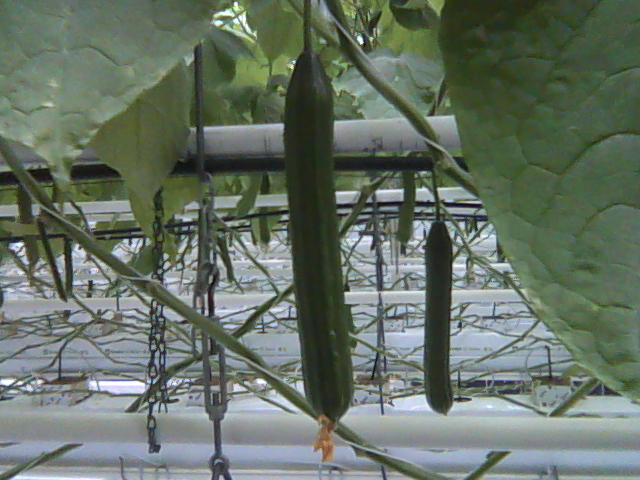concombre: (281, 46, 359, 467)
